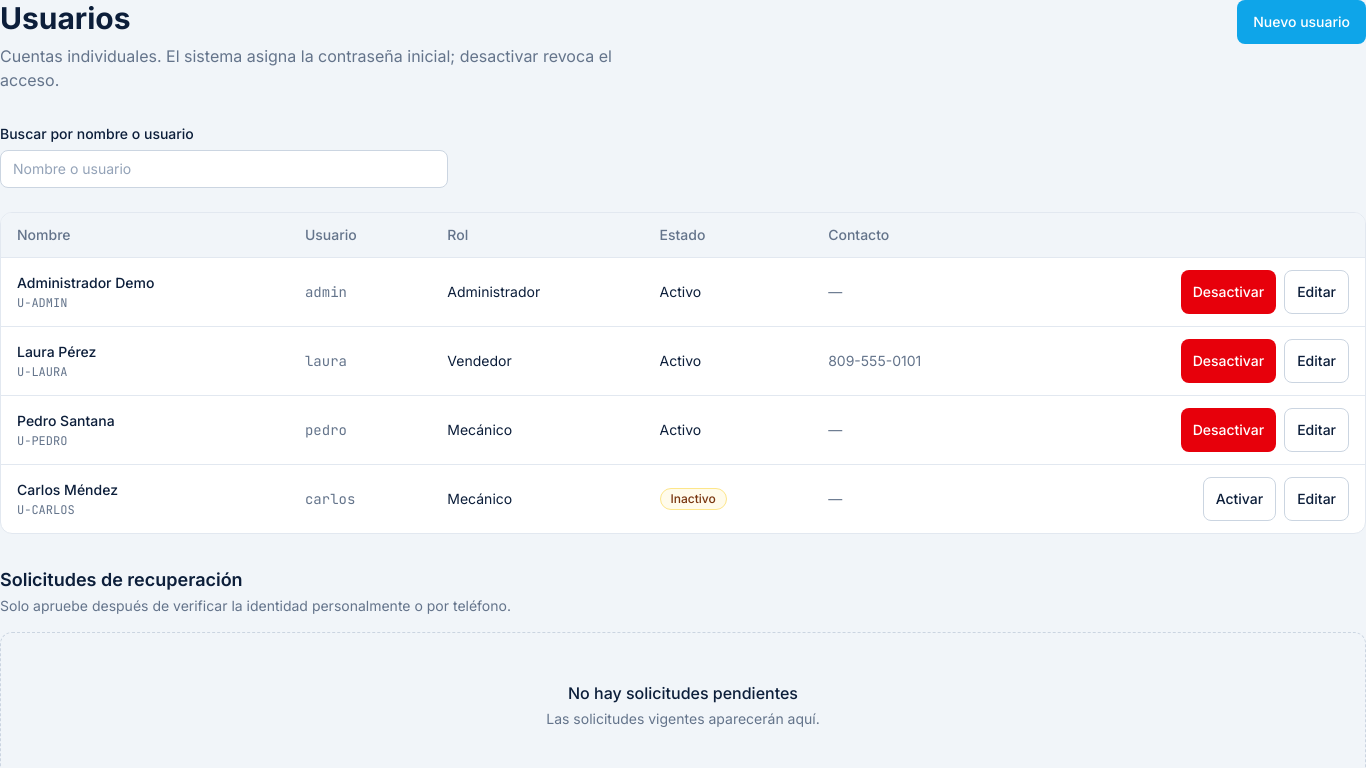
Test: UsersPage › activates a deactivated account only after confirmation
This screenshot has width=1366, height=768.
Check: the text "Carlos Méndez" is shown, box x1=17 y1=481 x2=118 y2=498
Click the button "Activar" at (1239, 499), box x1=1203 y1=477 x2=1276 y2=521
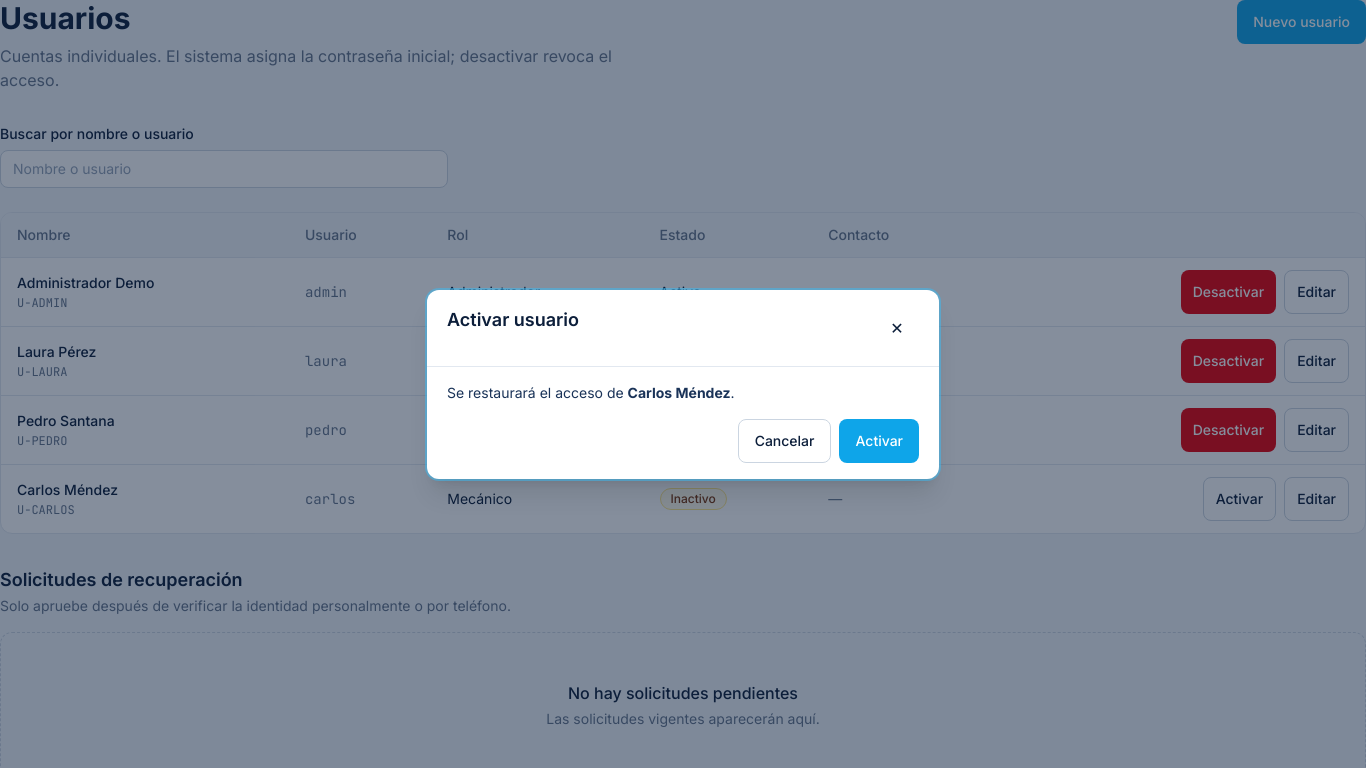
Click the button "Activar" at (879, 440), box x1=840 y1=418 x2=919 y2=462
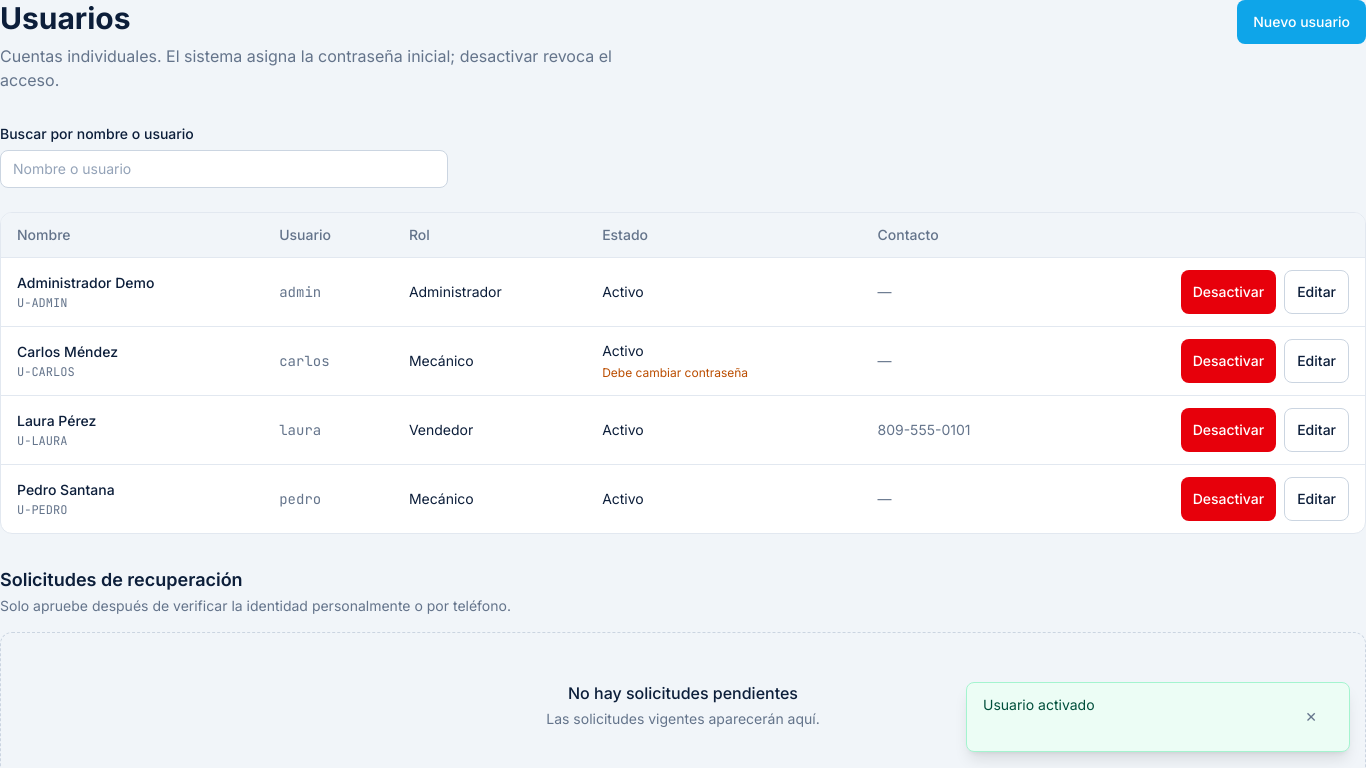
Check: the text "Activo" in the row of "Carlos Méndez" is shown, box x1=602 y1=342 x2=644 y2=359
Check: the text "Usuario activado" is shown, box x1=983 y1=696 x2=1094 y2=713
